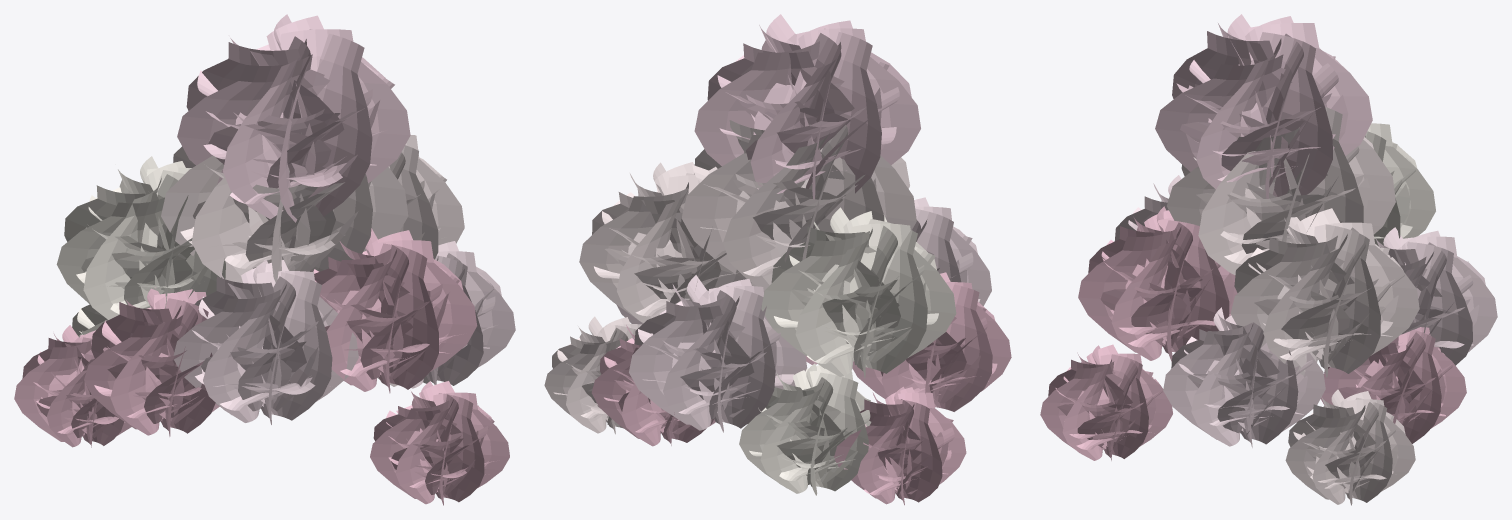
File: bouquet.glb
The picture shows the model from 3 angles, left to right: view 1: azimuth 30°, elevation 25°; view 2: azimuth 150°, elevation 25°; view 3: azimuth 270°, elevation 25°; orthographic projection. The views are drawn at different scales.
Visible parts, largest first — view 1: pet; view 2: pet; view 3: pet.
Part boxes in pixels (x1,y1,x2,y2): pet: (14, 14, 515, 505); pet: (544, 14, 1011, 505); pet: (1040, 14, 1497, 505).
Bounding box in the file's own units: 0.539 × 0.4911 × 0.5284.
